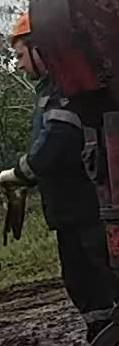gloves: (2, 187, 28, 247)
helmet: (8, 15, 34, 38)
vest: (27, 79, 101, 229)
